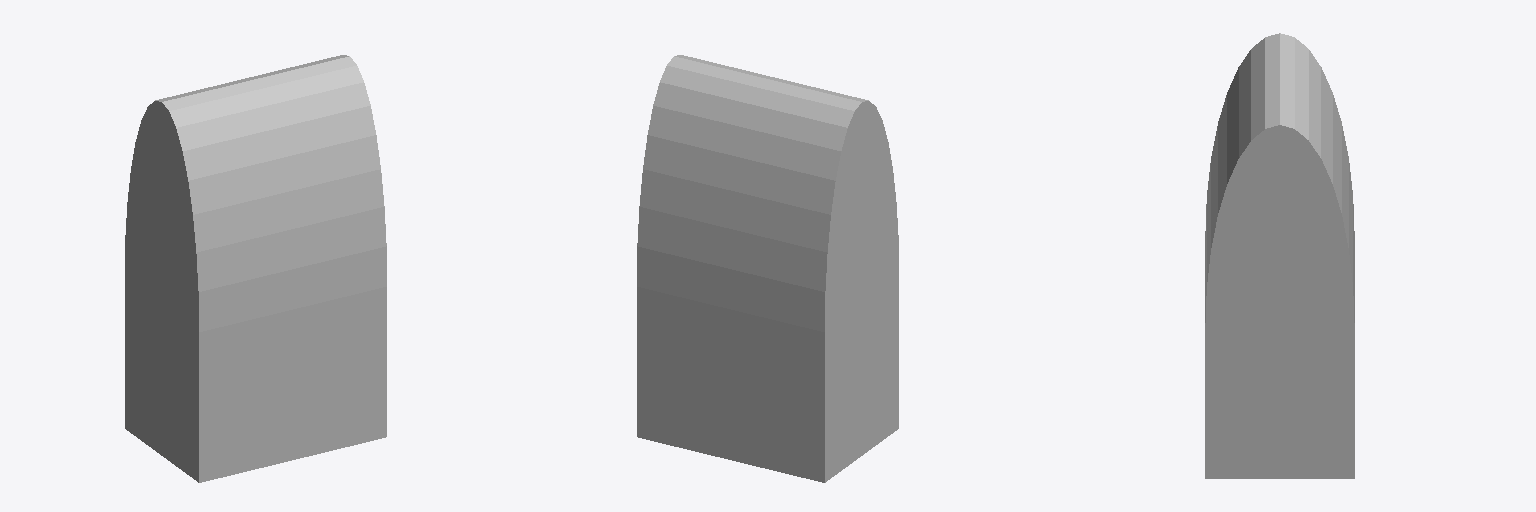
Rendered from body_l_distal_pinvround_collision.obj.
The picture shows the model from 3 angles: view 1: azimuth 30°, elevation 25°; view 2: azimuth 150°, elevation 25°; view 3: azimuth 270°, elevation 25°; orthographic projection.
Visible parts, largest first — view 1: body_l_distal_pinvround_collision_Cube.001; view 2: body_l_distal_pinvround_collision_Cube.001; view 3: body_l_distal_pinvround_collision_Cube.001.
Boxes of the visible parts, box(x1,y1,x2,y2) form: body_l_distal_pinvround_collision_Cube.001: box(125, 55, 386, 482); body_l_distal_pinvround_collision_Cube.001: box(637, 55, 898, 482); body_l_distal_pinvround_collision_Cube.001: box(1205, 33, 1354, 478).
Bounding box in the file's own units: 0.032 × 0.0575 × 0.022.